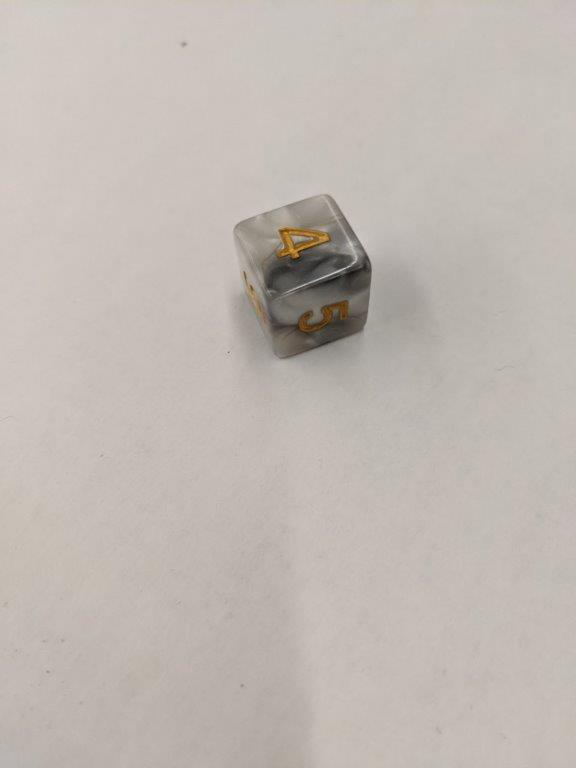d6-4: (230, 195, 374, 362)
